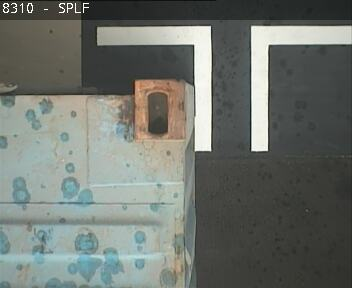groundmarker_1: (96, 23, 352, 150)
